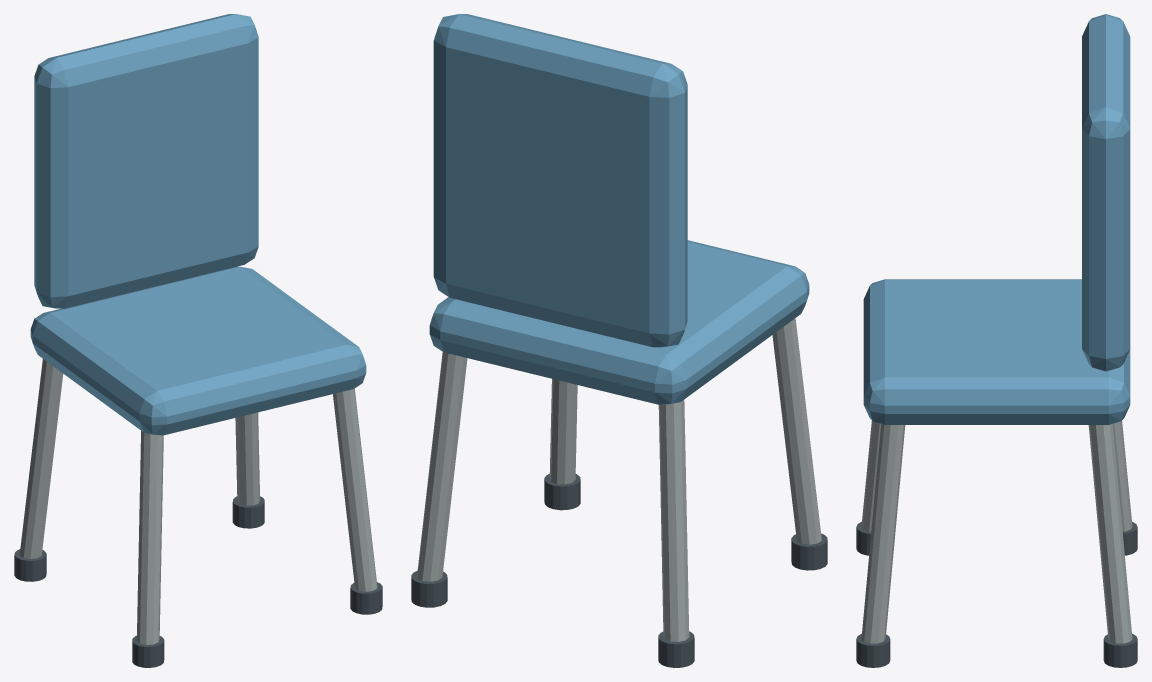
Rendered from lobby_T1_waiting_chair_cushion.glb.
The picture shows the model from 3 angles, left to right: view 1: azimuth 30°, elevation 25°; view 2: azimuth 150°, elevation 25°; view 3: azimuth 270°, elevation 25°; orthographic projection. The views are drawn at different scales.
Parts seen in each view (by area): view 1: lobby_T1_waiting_chair_cushion__Static_Assembly; view 2: lobby_T1_waiting_chair_cushion__Static_Assembly; view 3: lobby_T1_waiting_chair_cushion__Static_Assembly.
Boxes of the visible parts, x1,y1,x2,y2 form: lobby_T1_waiting_chair_cushion__Static_Assembly: (14,14,382,667); lobby_T1_waiting_chair_cushion__Static_Assembly: (411,14,827,667); lobby_T1_waiting_chair_cushion__Static_Assembly: (856,14,1137,667).
Bounding box in the file's own units: 0.493 × 0.99 × 0.464.
